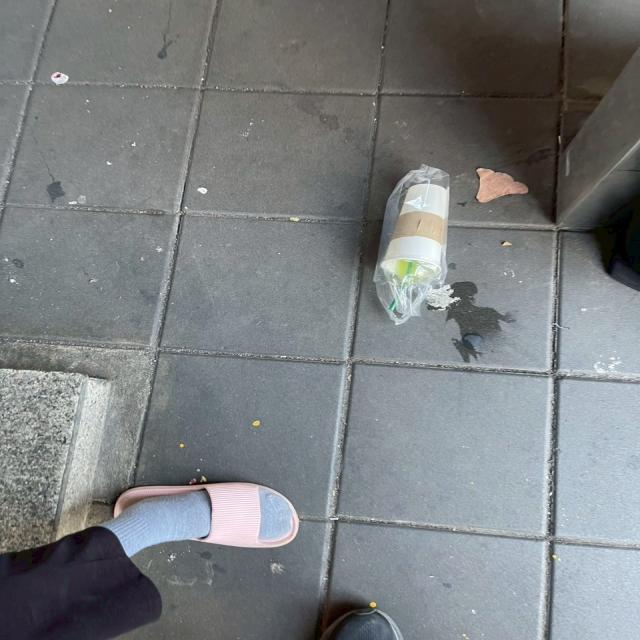paper cup: (360, 157, 463, 325)
